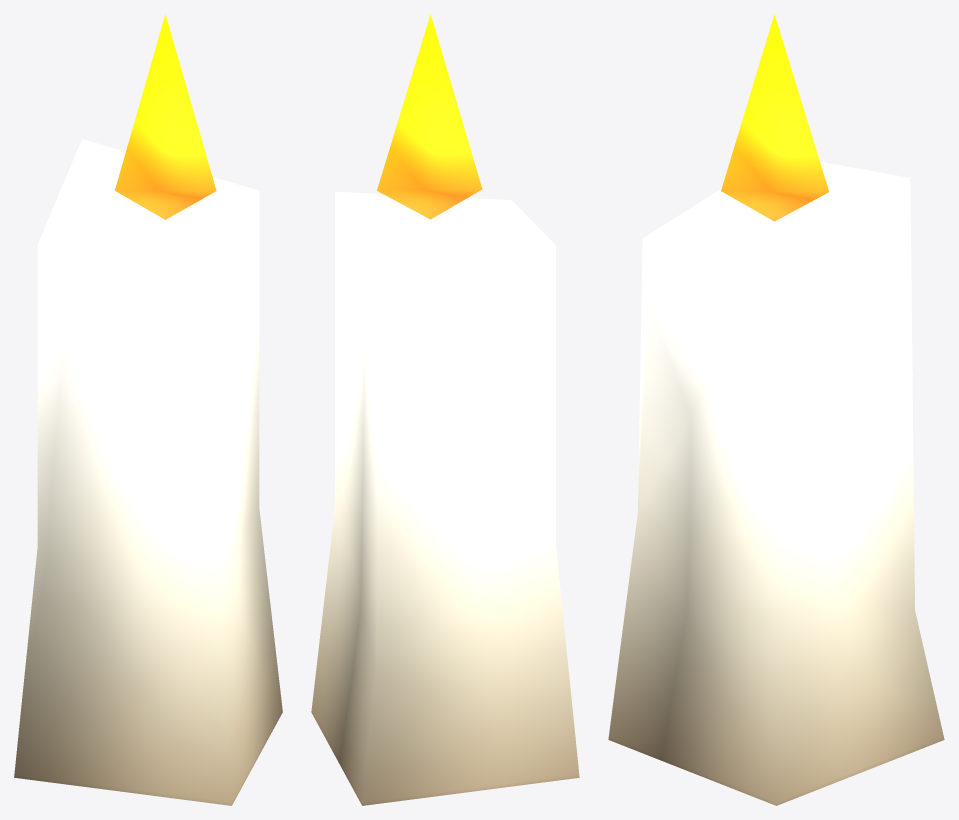
Rendered from deco_cathedral_candle_A.FBX.
3 renders of one model, left to right at view 1: azimuth 30°, elevation 25°; view 2: azimuth 150°, elevation 25°; view 3: azimuth 270°, elevation 25°, orthographic.
Parts seen in each view (by area): view 1: deco_cathedral_candle_A; view 2: deco_cathedral_candle_A; view 3: deco_cathedral_candle_A.
Boxes of the visible parts, x1,y1,x2,y2 form: deco_cathedral_candle_A: (14, 14, 282, 805); deco_cathedral_candle_A: (311, 14, 579, 805); deco_cathedral_candle_A: (608, 14, 944, 805).
Size of the model in its own units: 0.3692 by 0.9551 by 0.3967.
Materials: 1 (1 with a texture image).
